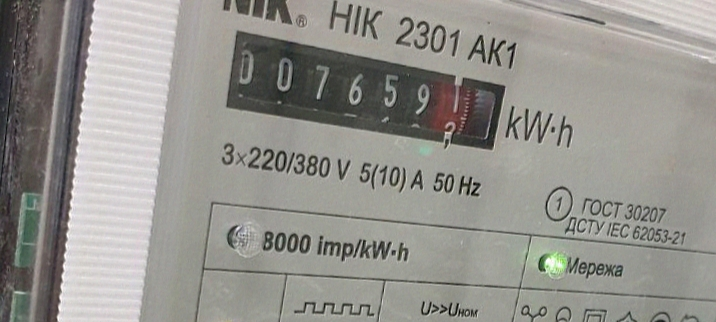0: (272, 51, 300, 95), (233, 44, 260, 87)
1: (447, 82, 468, 117)
5: (380, 70, 403, 110)
6: (345, 67, 370, 108)
7: (310, 60, 333, 102)
9: (413, 80, 434, 118)
screen: (214, 20, 518, 169)
